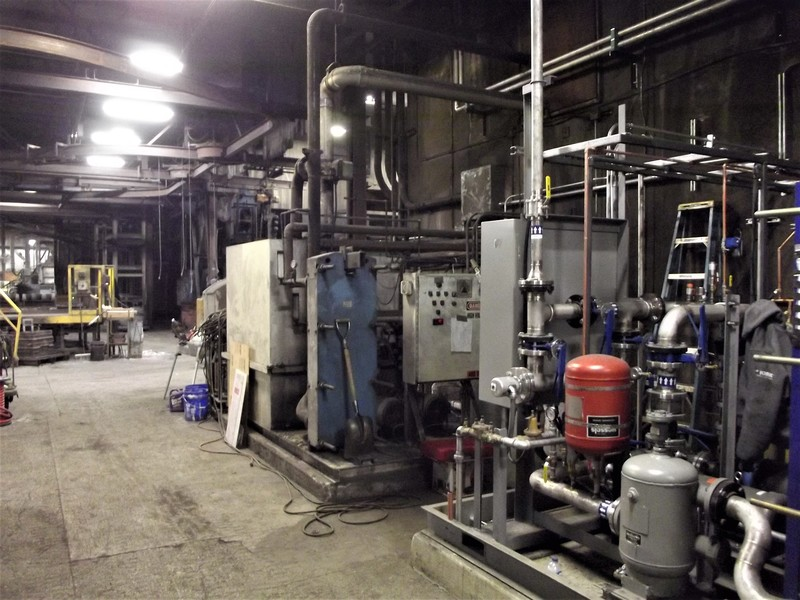valve: (526, 174, 560, 218), (722, 272, 734, 295)
